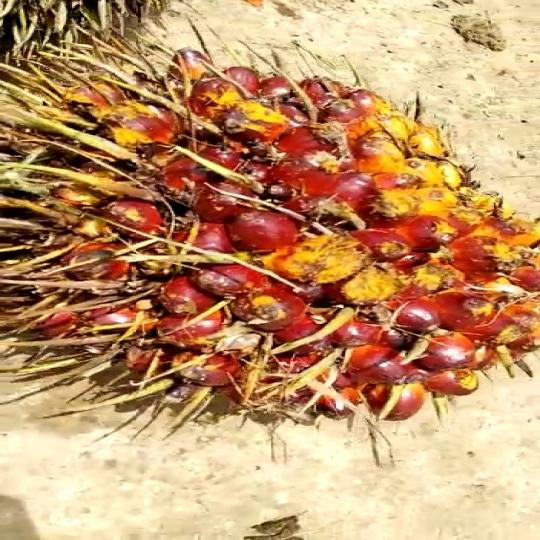masak: (1, 65, 540, 428)
